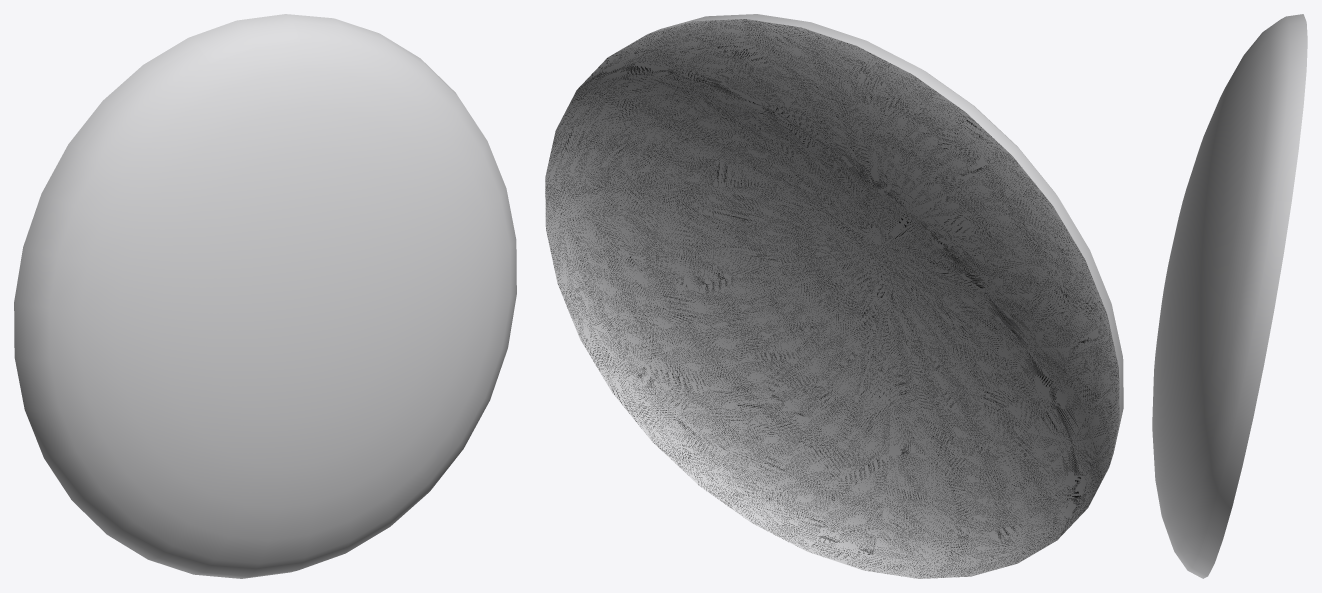
File: original-88.obj
The picture shows the model from 3 angles, left to right: view 1: azimuth 30°, elevation 25°; view 2: azimuth 150°, elevation 25°; view 3: azimuth 270°, elevation 25°; orthographic projection. The views are drawn at different scales.
Visible parts, largest first — view 1: mesh83/mesh83-geometry#mesh83-geometry; view 2: mesh83/mesh83-geometry#mesh83-geometry; view 3: mesh83/mesh83-geometry#mesh83-geometry.
Boxes of the visible parts, box(x1,y1,x2,y2) form: mesh83/mesh83-geometry#mesh83-geometry: box(14, 14, 516, 578); mesh83/mesh83-geometry#mesh83-geometry: box(545, 14, 1123, 578); mesh83/mesh83-geometry#mesh83-geometry: box(1152, 14, 1307, 578).
Size of the model in its own units: 0.0224 by 0.022 by 0.00607.
